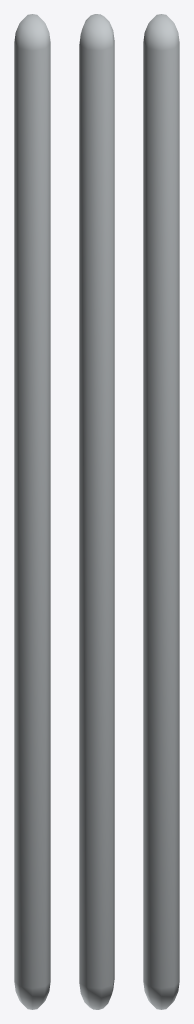
Rendered from hx_hxyq_bolibang.FBX.
The picture shows the model from 3 angles, left to right: view 1: azimuth 90°, elevation 25°; view 2: azimuth 150°, elevation 25°; view 3: azimuth 270°, elevation 25°; orthographic projection.
Visible parts, largest first — view 1: hx_hxyq_blb; view 2: hx_hxyq_blb; view 3: hx_hxyq_blb.
Boxes of the visible parts, x1,y1,x2,y2 form: hx_hxyq_blb: [14, 14, 50, 1009]; hx_hxyq_blb: [79, 14, 114, 1009]; hx_hxyq_blb: [143, 14, 179, 1009].
Size of the model in its own units: 0.666 by 20.02 by 0.666.
1 material, 1 textured.
